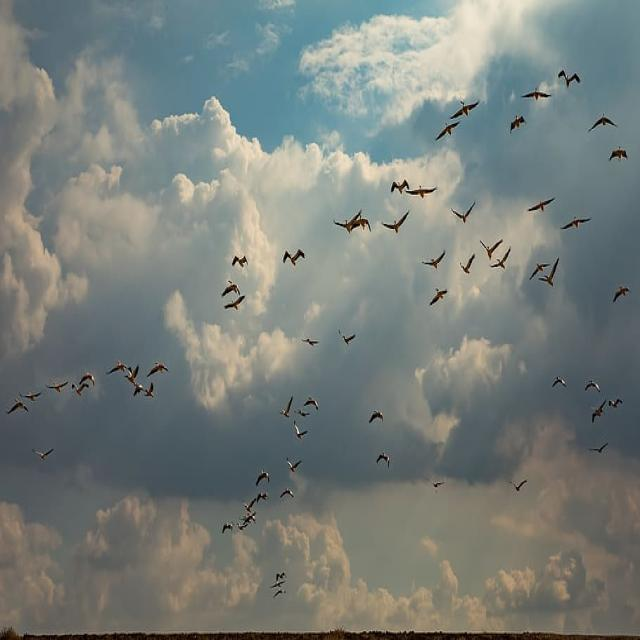bird: (274, 228, 314, 282), (446, 84, 486, 136), (326, 198, 370, 245), (449, 184, 481, 237), (522, 184, 558, 231), (504, 100, 534, 154), (516, 77, 554, 116), (26, 433, 60, 476), (583, 104, 621, 141), (336, 308, 362, 358), (538, 252, 563, 304), (379, 204, 412, 242), (554, 65, 588, 101), (217, 288, 247, 328), (504, 466, 530, 509), (223, 240, 254, 276), (546, 362, 570, 407), (50, 364, 71, 414), (554, 212, 597, 236), (491, 238, 516, 278), (432, 118, 463, 150), (299, 326, 325, 364), (605, 272, 633, 306), (216, 501, 237, 546), (4, 393, 28, 432), (124, 367, 150, 403), (106, 346, 130, 384), (524, 250, 548, 288), (418, 244, 446, 276), (364, 401, 388, 438), (453, 248, 478, 283), (424, 278, 448, 314), (274, 389, 294, 432), (607, 140, 636, 168), (586, 436, 616, 462), (212, 274, 244, 298), (124, 350, 143, 390), (151, 348, 173, 382), (408, 181, 445, 201), (585, 392, 608, 424), (476, 232, 501, 260), (373, 448, 396, 478), (288, 408, 316, 431), (282, 451, 302, 482), (580, 371, 600, 402), (21, 372, 35, 410), (251, 464, 274, 487), (68, 391, 98, 408), (388, 172, 408, 197), (79, 362, 98, 388), (146, 370, 160, 404), (255, 488, 273, 514), (304, 392, 322, 416), (610, 393, 626, 418), (289, 425, 310, 443), (243, 490, 256, 519), (278, 485, 298, 503), (428, 475, 446, 495), (274, 588, 289, 608), (263, 576, 286, 588), (237, 520, 250, 537), (273, 568, 289, 578), (240, 523, 258, 528)
